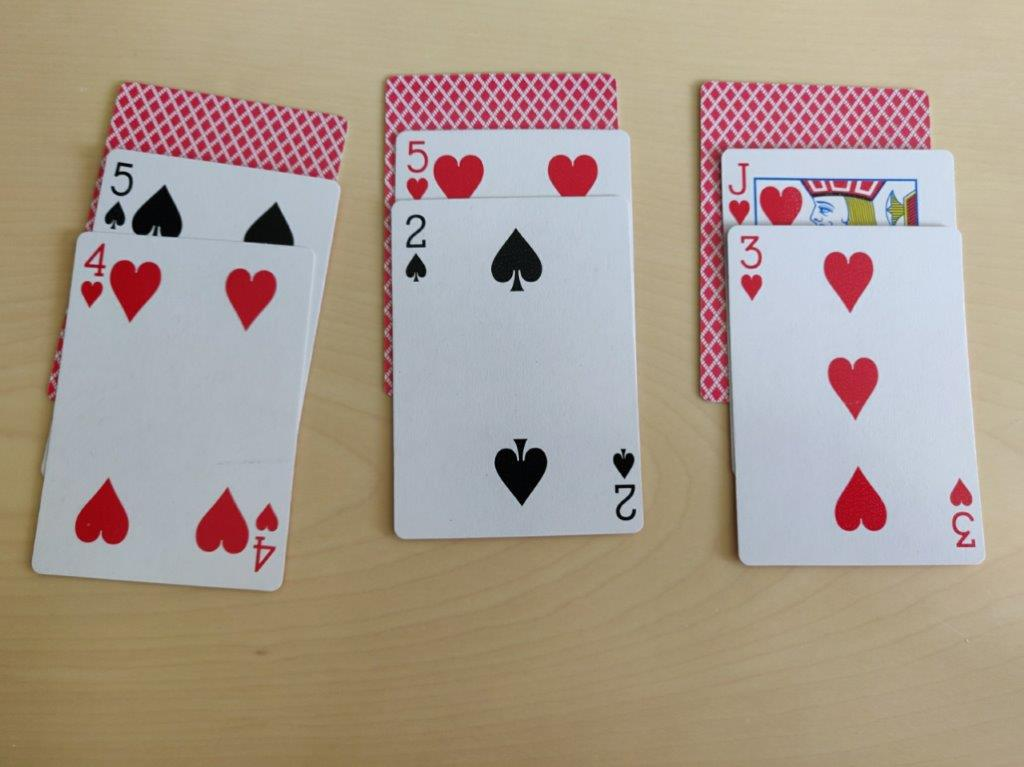2S: (400, 208, 430, 285)
3H: (735, 231, 767, 306)
4H: (74, 239, 113, 312)
5H: (402, 137, 433, 201)
5S: (102, 159, 134, 231)
BACK: (688, 74, 951, 151), (122, 87, 343, 174), (380, 66, 625, 129)
JH: (723, 156, 756, 227)
